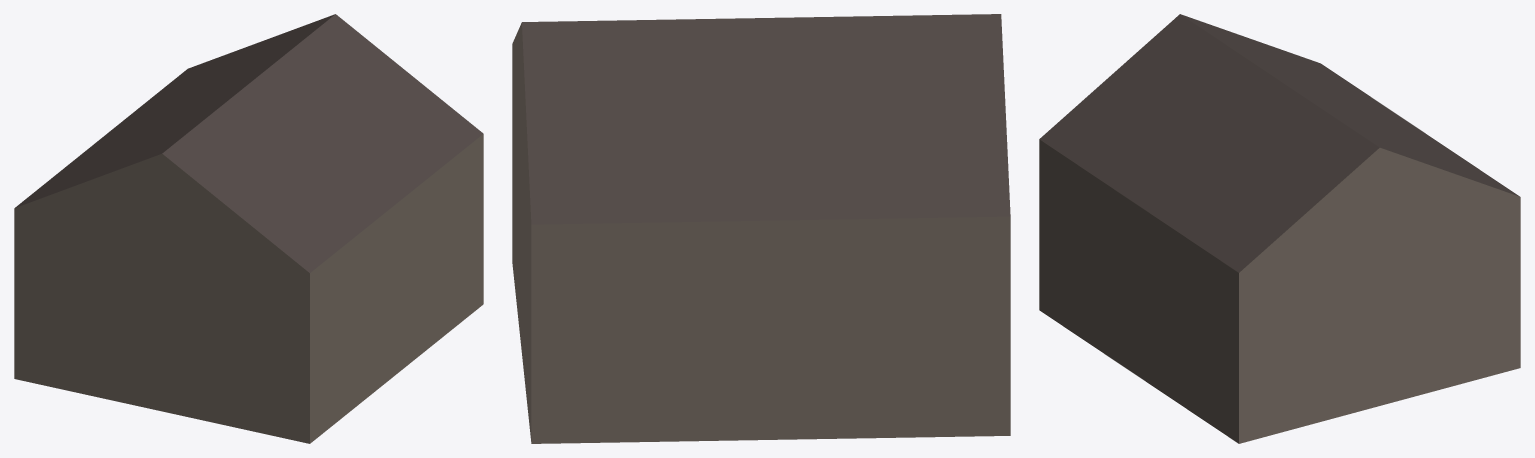
3 views of the same model, side by side, from view 1: azimuth 30°, elevation 25°; view 2: azimuth 150°, elevation 25°; view 3: azimuth 270°, elevation 25° (orthographic). The views are drawn at different scales.
Parts seen in each view (by area): view 1: HP-w369237847; view 2: HP-w369237847; view 3: HP-w369237847.
Part boxes in pixels (x1,y1,x2,y2): HP-w369237847: [14, 14, 483, 443]; HP-w369237847: [512, 14, 1010, 443]; HP-w369237847: [1039, 14, 1520, 443].
Bounding box in the file's own units: 15.77 × 9.07 × 15.31.
